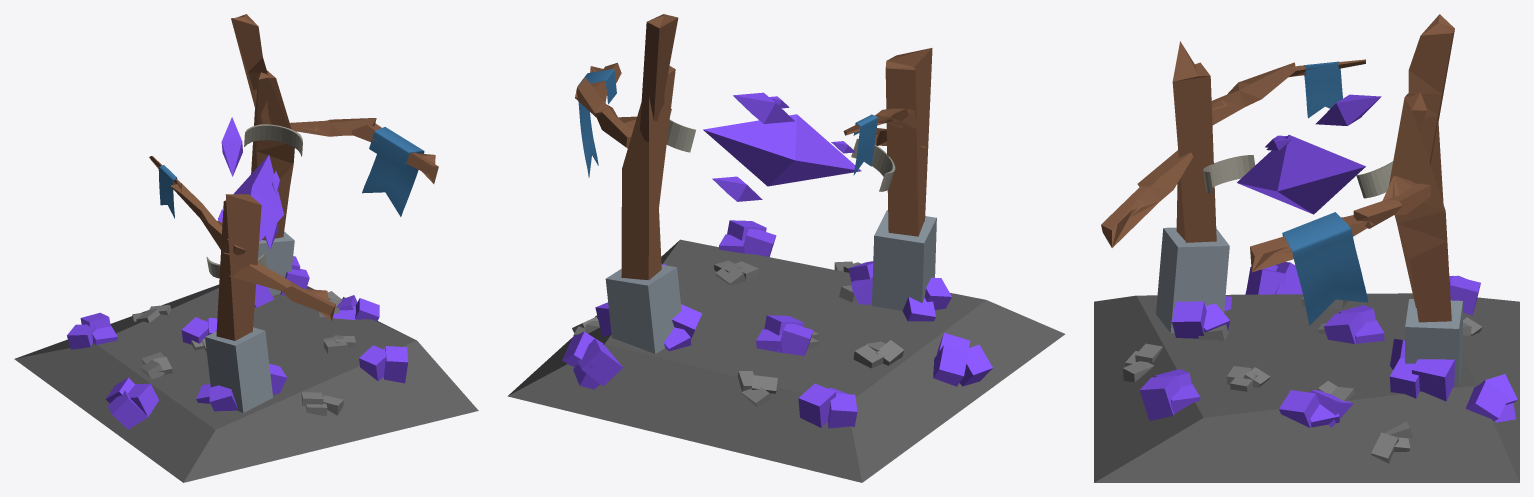
The model's file is MagicTower-lvl2.fbx.
The picture shows the model from 3 angles, left to right: view 1: azimuth 30°, elevation 25°; view 2: azimuth 150°, elevation 25°; view 3: azimuth 270°, elevation 25°; orthographic projection. The views are drawn at different scales.
Visible parts, largest first — view 1: Куб, Куб.003, Куб.002, Куб.004, Plane.009_feather_0, Куб.007, Куб.010, Cone.007, Cone.001, Куб.001, Куб.005, Куб.009 (+10 smaller); view 2: Куб, Куб.003, Куб.004, Cone.007, Куб.001, Куб.002, Куб.010, Cone.001, Куб.005, Plane.009_feather_0, Куб.021, Куб.030 (+12 smaller); view 3: Куб, Куб.004, Куб.003, Plane.009_feather_0, Cone.007, Куб.002, Куб.010, Куб.001, Куб.007, Куб.005, Куб.009, Plane.009_feather_0.001 (+19 smaller).
Boxes of the visible parts, bbox=[...] form: Куб: bbox=[14, 284, 478, 482]; Куб.003: bbox=[216, 193, 261, 340]; Куб.002: bbox=[205, 327, 273, 412]; Куб.004: bbox=[251, 70, 294, 240]; Plane.009_feather_0: bbox=[362, 127, 424, 216]; Куб.007: bbox=[229, 263, 335, 321]; Куб.010: bbox=[231, 14, 271, 124]; Cone.007: bbox=[233, 154, 283, 242]; Cone.001: bbox=[218, 117, 280, 249]; Куб.001: bbox=[258, 232, 294, 295]; Куб.005: bbox=[290, 118, 376, 136]; Куб.009: bbox=[170, 183, 245, 255]; Куб: bbox=[507, 239, 1065, 482]; Куб.003: bbox=[885, 48, 932, 236]; Куб.004: bbox=[621, 66, 675, 279]; Cone.007: bbox=[703, 114, 861, 186]; Куб.001: bbox=[605, 265, 681, 353]; Куб.002: bbox=[872, 210, 936, 310]; Куб.010: bbox=[640, 14, 678, 142]; Cone.001: bbox=[712, 92, 855, 201]; Куб.005: bbox=[575, 77, 636, 148]; Plane.009_feather_0: bbox=[578, 69, 616, 177]; Куб.021: bbox=[578, 338, 623, 386]; Куб.030: bbox=[798, 383, 836, 427]; Куб: bbox=[1094, 293, 1519, 482]; Куб.004: bbox=[1388, 92, 1451, 322]; Куб.003: bbox=[1172, 41, 1216, 242]; Plane.009_feather_0: bbox=[1282, 212, 1368, 325]; Cone.007: bbox=[1237, 135, 1365, 214]; Куб.002: bbox=[1156, 227, 1229, 333]; Куб.010: bbox=[1408, 14, 1454, 164]; Куб.001: bbox=[1405, 299, 1462, 386]; Куб.007: bbox=[1101, 150, 1193, 247]; Куб.005: bbox=[1353, 175, 1430, 228]; Куб.009: bbox=[1211, 62, 1296, 124]; Plane.009_feather_0.001: bbox=[1304, 61, 1342, 118].
Size of the model in its own units: 402 by 372 by 358.
